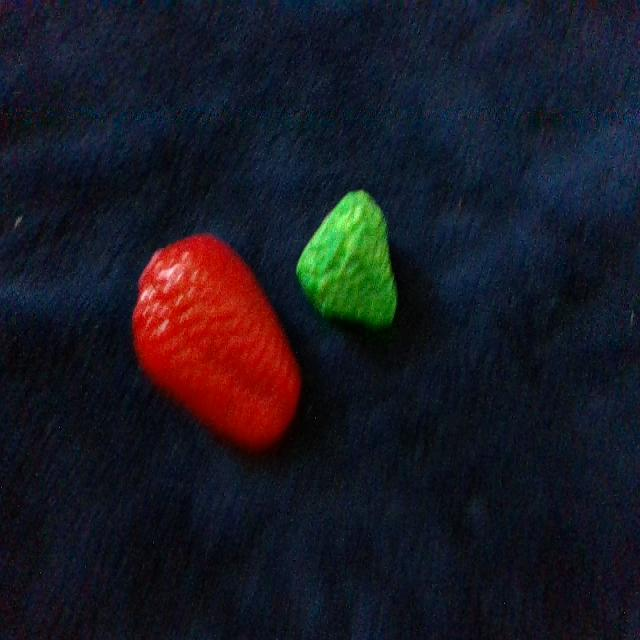grande_roja: (133, 235, 300, 448)
verde: (296, 191, 397, 327)
